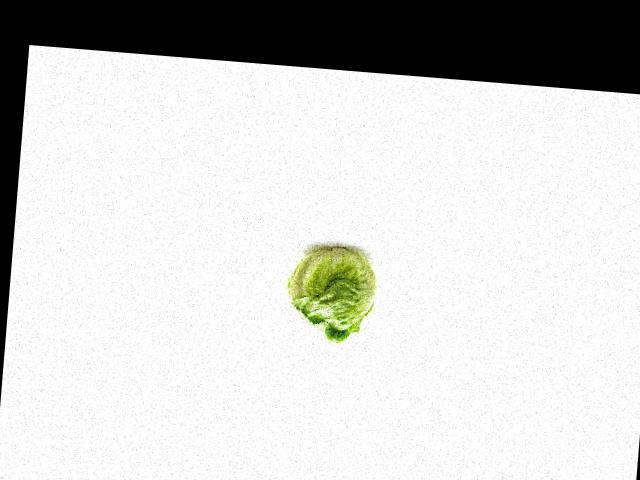lettuce: (275, 238, 383, 346)
